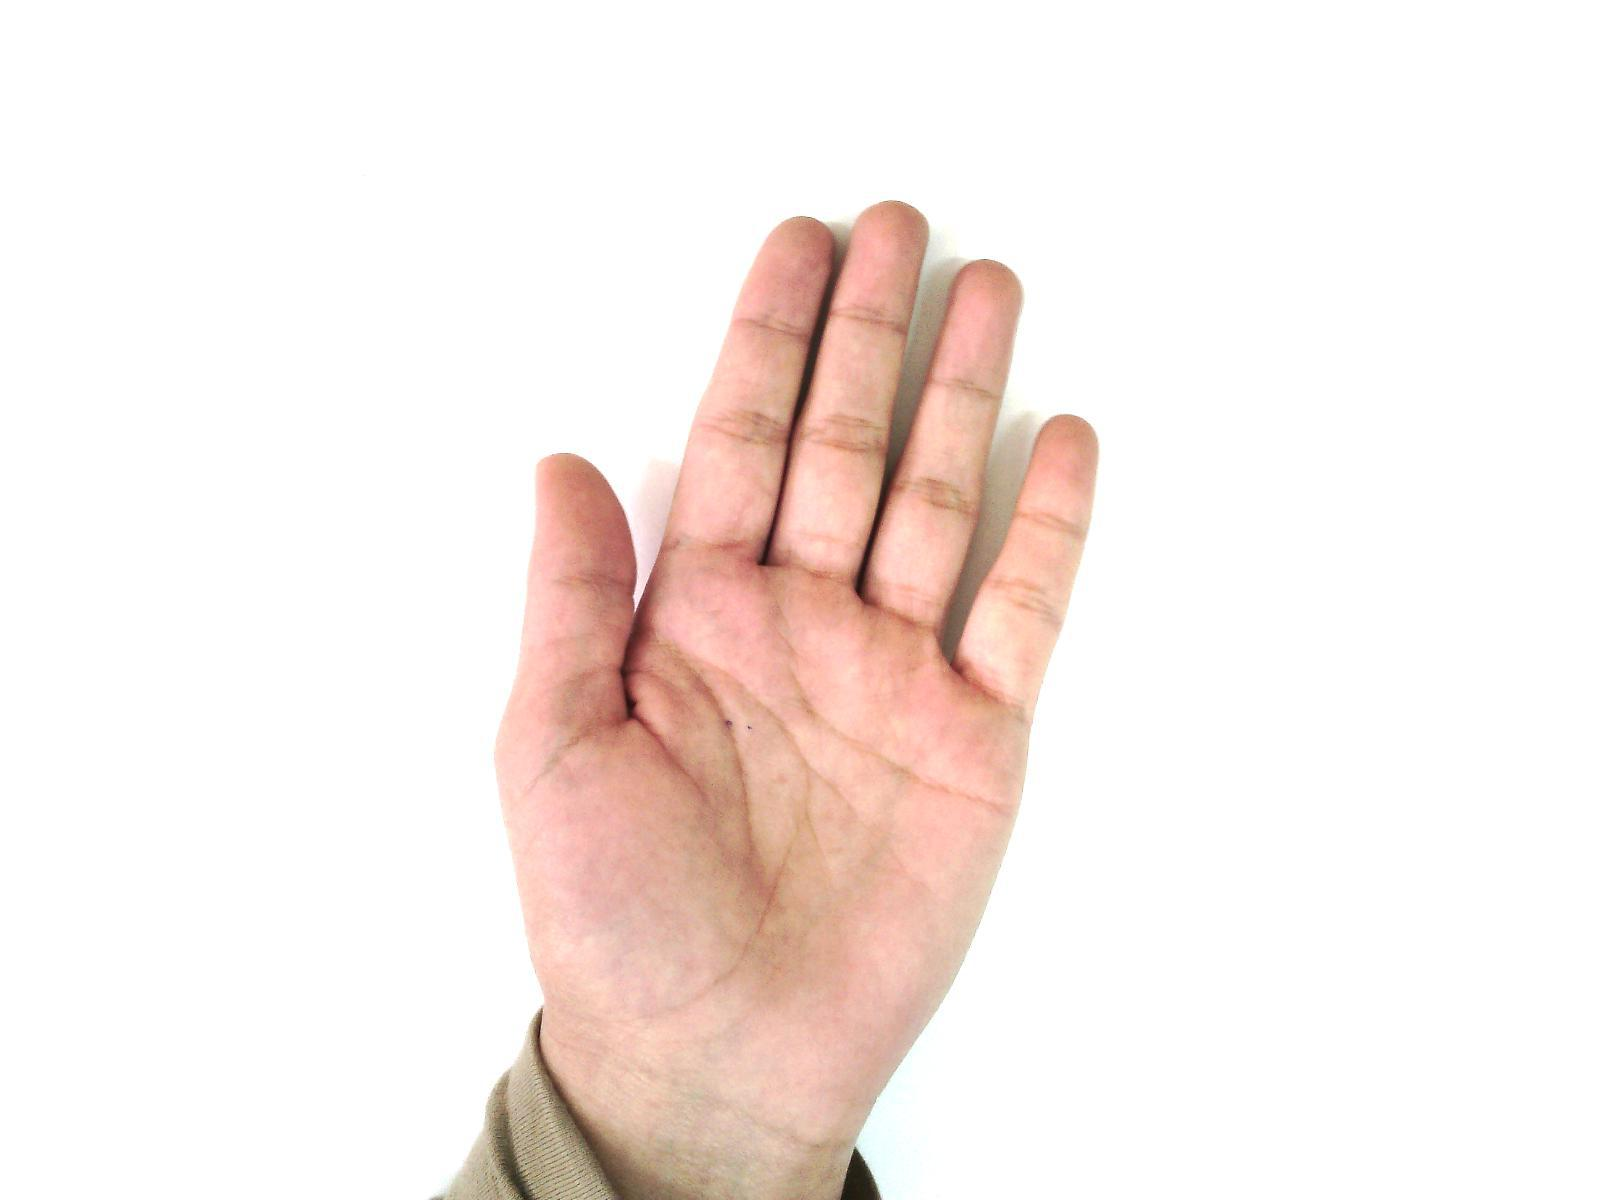hand: (475, 200, 1120, 1065)
